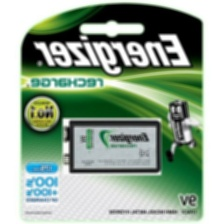battery: (61, 118, 162, 174)
